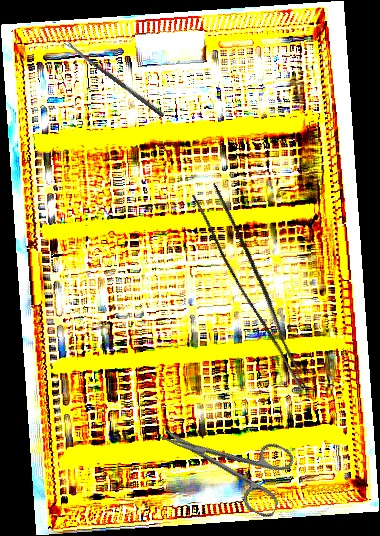Iris Scissors: (149, 399, 301, 520)
Surgical Spoon: (63, 39, 166, 118)
Tissue Forceps: (185, 182, 330, 391)
